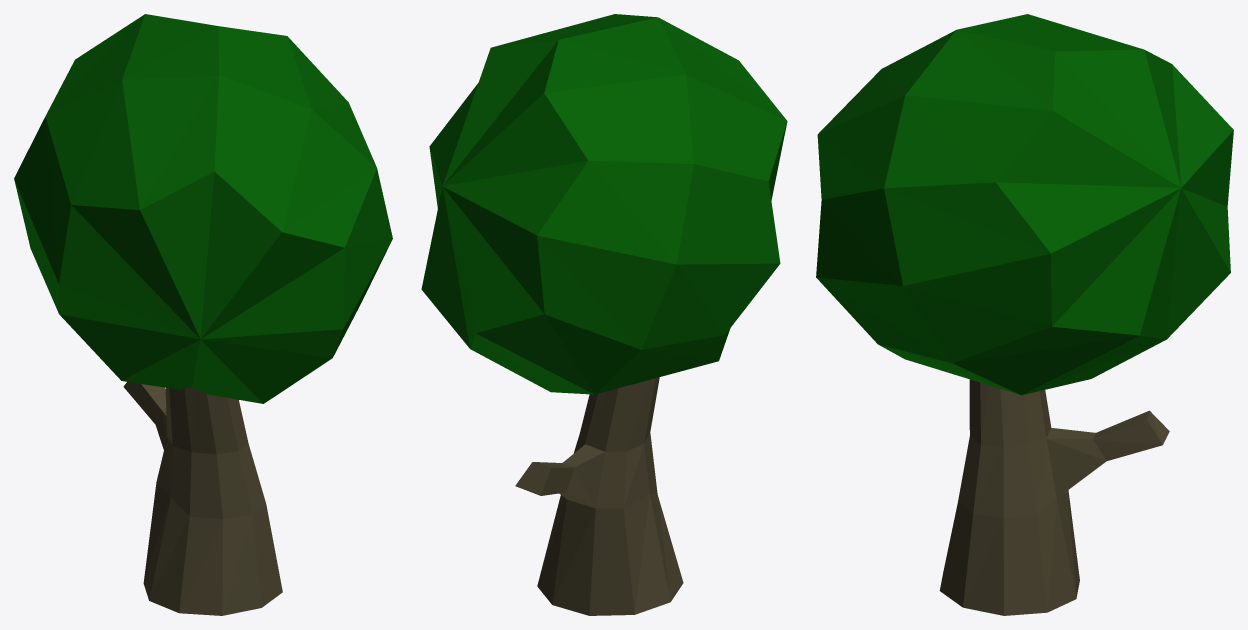
File: short_tree.fbx
3 views of the same model, side by side, from view 1: azimuth 30°, elevation 25°; view 2: azimuth 150°, elevation 25°; view 3: azimuth 270°, elevation 25° (orthographic). The views are drawn at different scales.
Visible parts, largest first — view 1: pCylinder2; view 2: pCylinder2; view 3: pCylinder2.
Boxes of the visible parts, left/top/right/bottom form: pCylinder2: left=14, top=14, right=392, bottom=615; pCylinder2: left=421, top=14, right=787, bottom=615; pCylinder2: left=816, top=14, right=1233, bottom=615.
Bounding box in the file's own units: 4.05 × 6.65 × 4.58.
